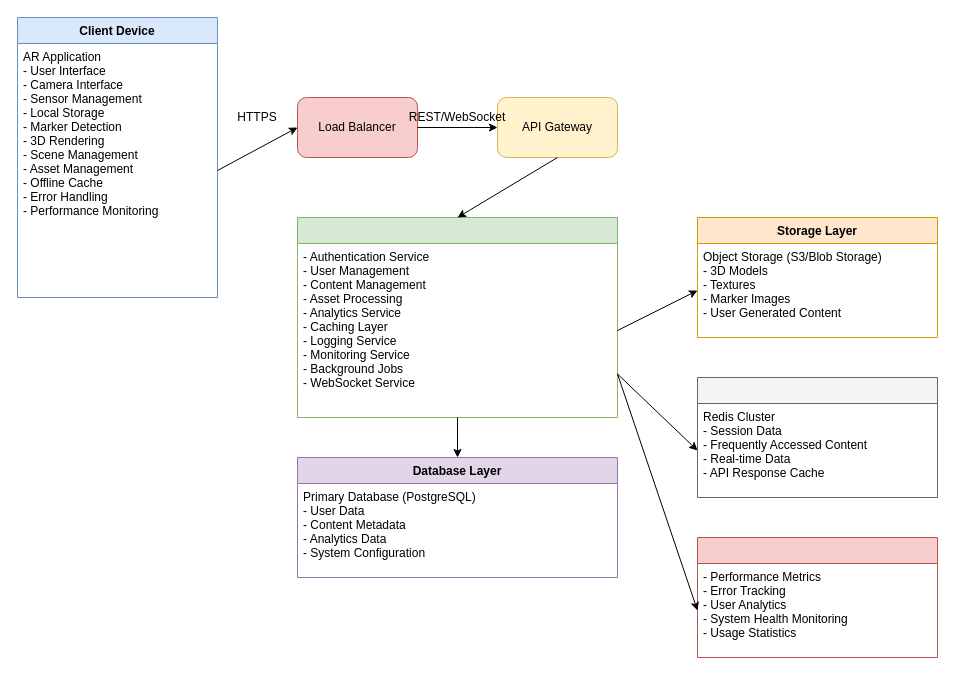
The diagram is 955 pixels wide and 678 high, and some of its shapes have lost their labels. The box of each missing label's shape, as (x1, y1, x2, y2) in pixels:
Application Servers: (296, 216, 618, 418)
Cache Layer: (696, 376, 938, 498)
Monitoring & Analytics: (696, 536, 938, 658)
